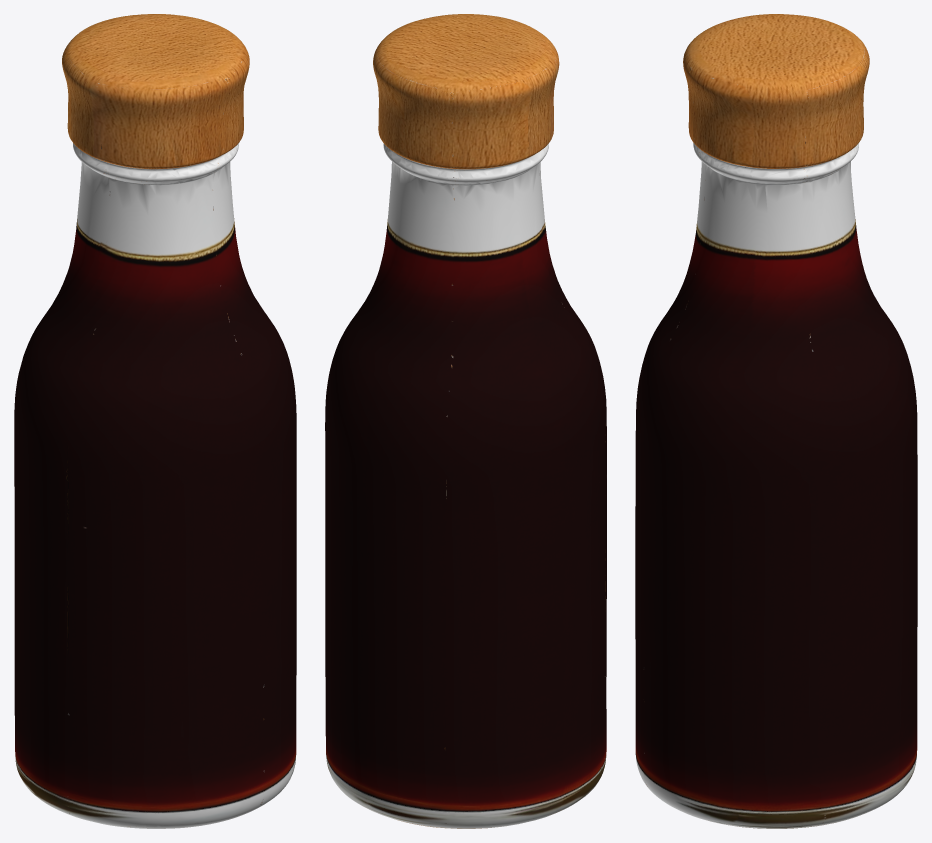
File: chow-soy.glb
The picture shows the model from 3 angles, left to right: view 1: azimuth 30°, elevation 25°; view 2: azimuth 150°, elevation 25°; view 3: azimuth 270°, elevation 25°; orthographic projection.
Parts seen in each view (by area): view 1: mesh; view 2: mesh; view 3: mesh.
Part boxes in pixels (left/top/right/bottom): mesh: left=14, top=14, right=296, bottom=828; mesh: left=325, top=14, right=606, bottom=828; mesh: left=635, top=14, right=917, bottom=828.
Size of the model in its own units: 0.6954 by 2 by 0.6963.
Materials: 1 (1 with a texture image).
